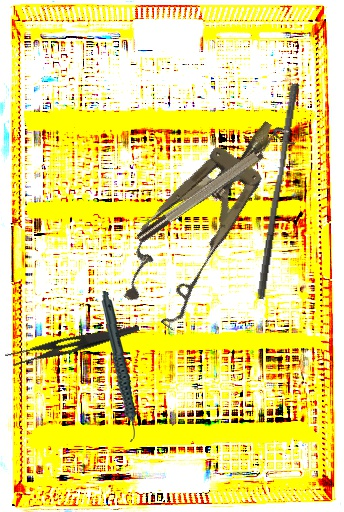Dressing Forceps: (3, 310, 141, 374)
Fixation Ring: (129, 122, 297, 247)
Handpiece: (96, 291, 142, 443)
Pusher: (256, 82, 300, 301)
Speculum: (103, 97, 306, 334)
